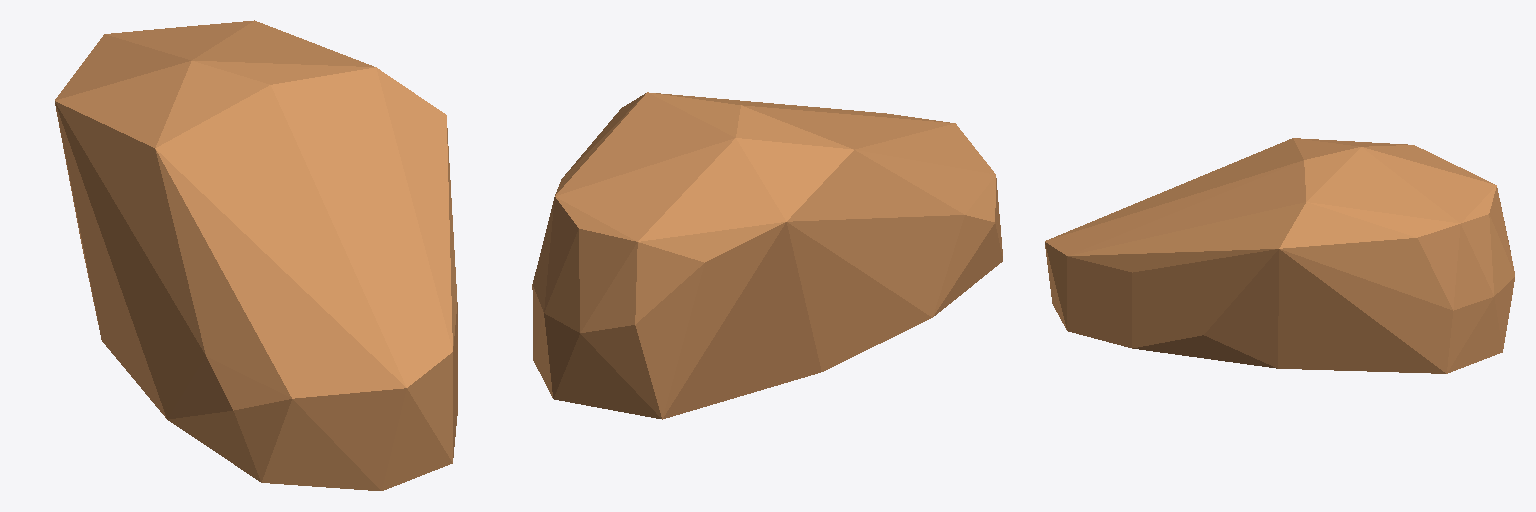
The robot description file, URDF, robot "obj_01":
<?xml version="1.0"?>
<robot name="obj_01">
  <!-- dress shoe: leather, 512 g. Written by Darius 0.2.0. Link frame: +z up, origin at the capture-time bounding-box center; place it at the pose in world.json -->
  <mujoco>
    <compiler meshdir="../meshes/" discardvisual="true" balanceinertia="true" fusestatic="false" />
  </mujoco>
  <link name="obj_01">
    <inertial>
      <origin xyz="0.00121 0.00707 -0.00561" rpy="0 0 0" />
      <mass value="0.5117" />
      <inertia ixx="0.00359496" ixy="-0.000493362" ixz="-1.24113e-05" iyy="0.00149224" iyz="-0.000480182" izz="0.00393883" />
    </inertial>
    <visual>
      <geometry>
        <mesh filename="../meshes/obj_01_visual.obj" />
      </geometry>
      <material name="obj_01_color">
        <color rgba="0.847 0.62 0.42 1" />
      </material>
    </visual>
    <collision name="obj_01_part0">
      <geometry>
        <mesh filename="../meshes/obj_01_part0.obj" />
      </geometry>
    </collision>
    <collision name="obj_01_part1">
      <geometry>
        <mesh filename="../meshes/obj_01_part1.obj" />
      </geometry>
    </collision>
    <collision name="obj_01_part2">
      <geometry>
        <mesh filename="../meshes/obj_01_part2.obj" />
      </geometry>
    </collision>
    <collision name="obj_01_part3">
      <geometry>
        <mesh filename="../meshes/obj_01_part3.obj" />
      </geometry>
    </collision>
    <collision name="obj_01_part4">
      <geometry>
        <mesh filename="../meshes/obj_01_part4.obj" />
      </geometry>
    </collision>
    <collision name="obj_01_part5">
      <geometry>
        <mesh filename="../meshes/obj_01_part5.obj" />
      </geometry>
    </collision>
    <collision name="obj_01_part6">
      <geometry>
        <mesh filename="../meshes/obj_01_part6.obj" />
      </geometry>
    </collision>
    <collision name="obj_01_part7">
      <geometry>
        <mesh filename="../meshes/obj_01_part7.obj" />
      </geometry>
    </collision>
    <contact>
      <lateral_friction value="0.6" />
      <restitution value="0.1" />
    </contact>
  </link>
</robot>

--- Facts derived from the render (not from the file) ---
Views: 3 orthographic renders of the robot side by side, from view 1: azimuth 30°, elevation 25°; view 2: azimuth 150°, elevation 25°; view 3: azimuth 270°, elevation 25°.
Robot: obj_01 — 1 links, 0 joints (none); root link obj_01; default pose: all joints at 0.
Visible links, largest first — view 1: obj_01; view 2: obj_01; view 3: obj_01.
Boxes of the visible links, x1=… form: obj_01: x1=55, y1=20, x2=457, y2=490; obj_01: x1=532, y1=92, x2=1002, y2=419; obj_01: x1=1045, y1=138, x2=1514, y2=373.
Size in the robot's own frame: 0.1379 by 0.2581 by 0.1031 metres.
1 mesh visuals loaded from 1 distinct referenced files (1 OBJ).
